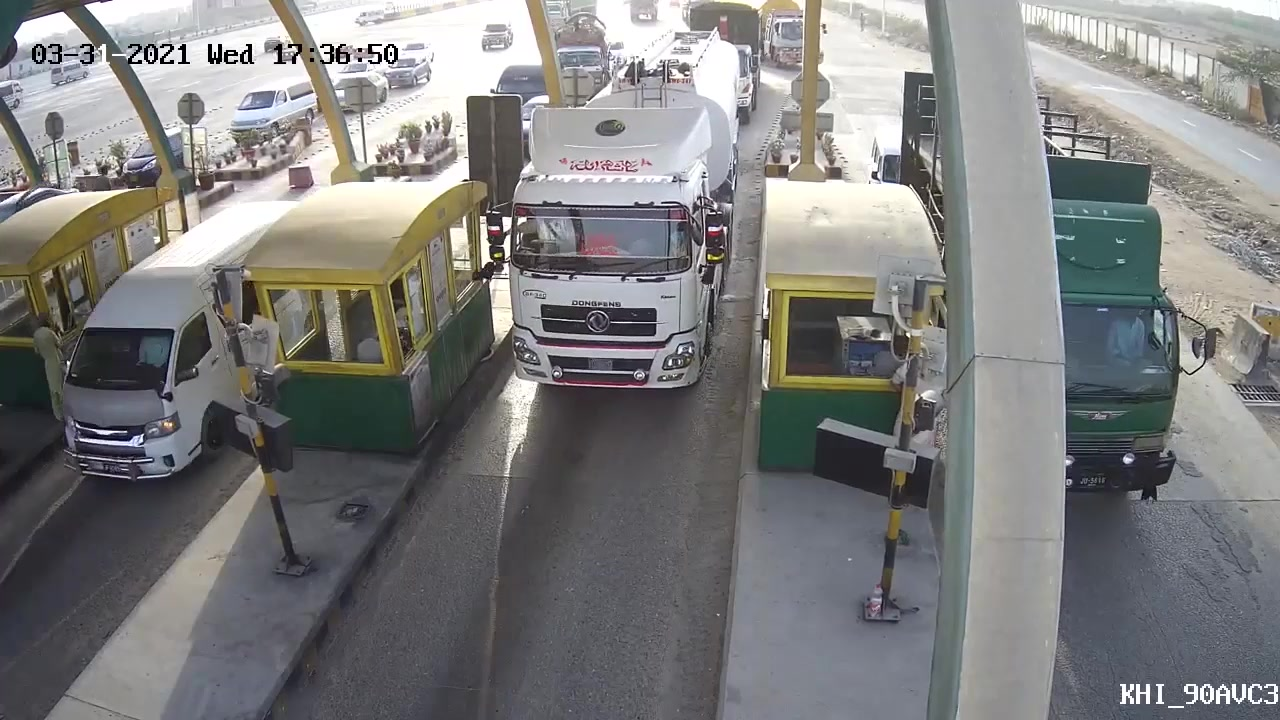F6: (487, 103, 730, 421)
